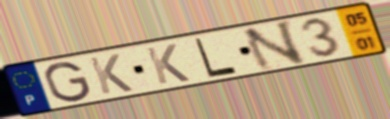3: (299, 16, 344, 60)
G: (42, 60, 94, 104)
K: (86, 52, 136, 96), (143, 42, 193, 86)
L: (192, 36, 240, 79)
N: (239, 18, 308, 74)
